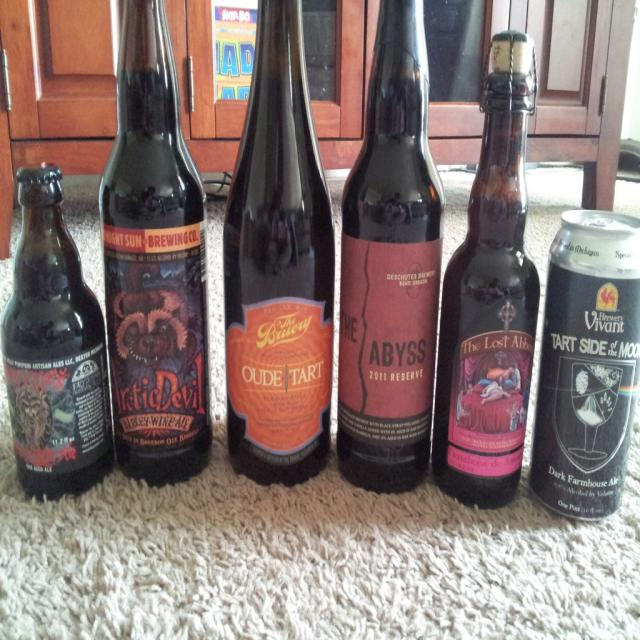Bottle: (96, 0, 215, 486), (334, 0, 446, 493), (225, 0, 336, 491), (430, 30, 540, 509), (0, 155, 108, 502)
